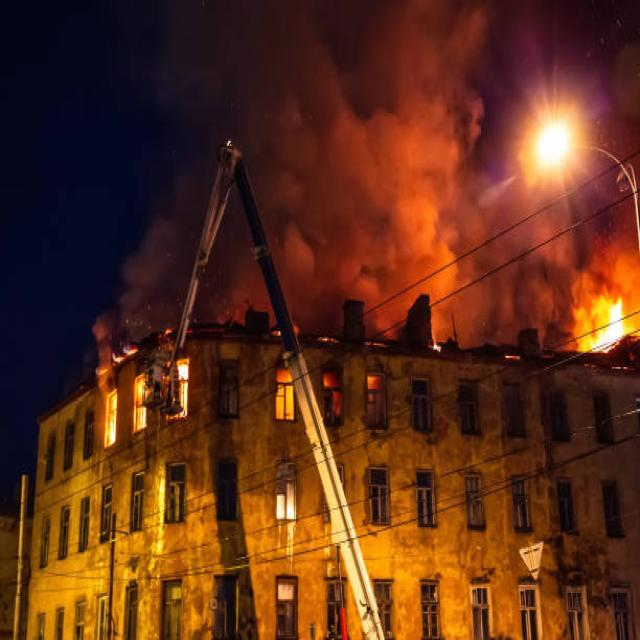Fire: (102, 360, 192, 440), (577, 275, 639, 347)
Smoke: (270, 5, 472, 286), (457, 204, 640, 306), (174, 4, 302, 124), (122, 198, 178, 318)
